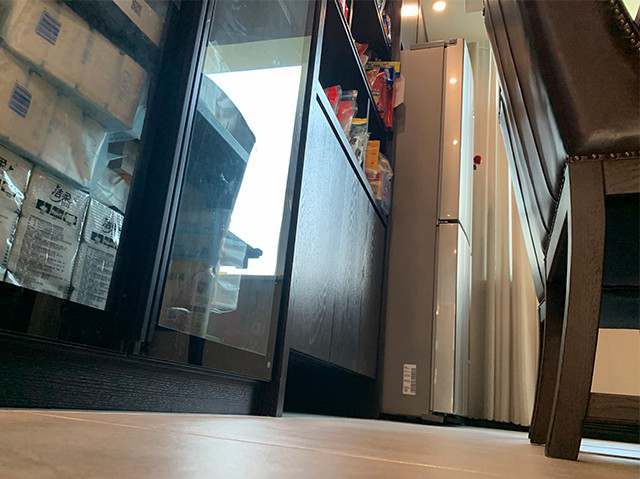cabinet: (1, 1, 399, 418)
curtain: (467, 39, 539, 426)
stool: (481, 1, 640, 459)
